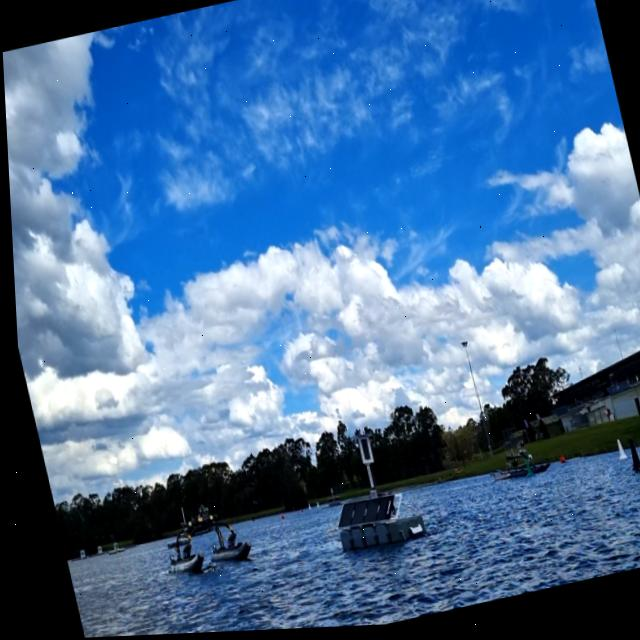led: (353, 438, 367, 466)
